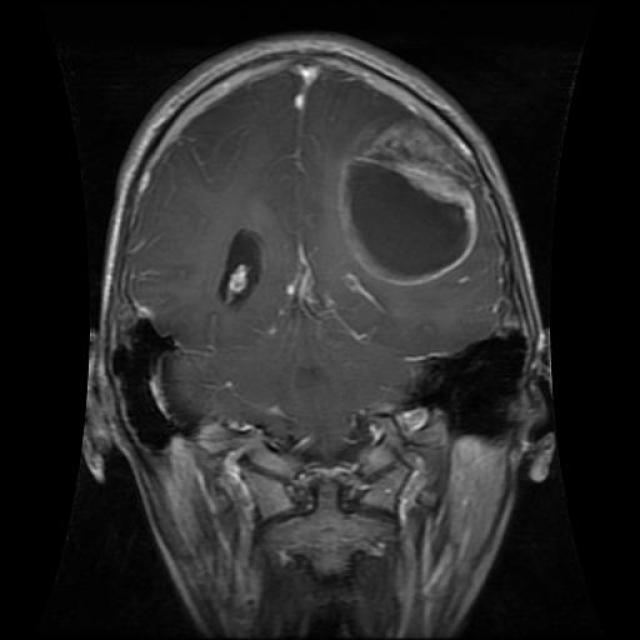glioma: (333, 132, 482, 292)
